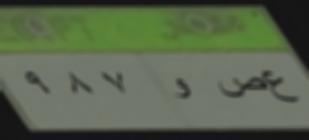7: (102, 66, 131, 100)
8: (66, 67, 95, 100)
9: (23, 69, 54, 98)
ain: (265, 65, 299, 107)
saad: (220, 72, 262, 102)
waw: (171, 73, 201, 107)
